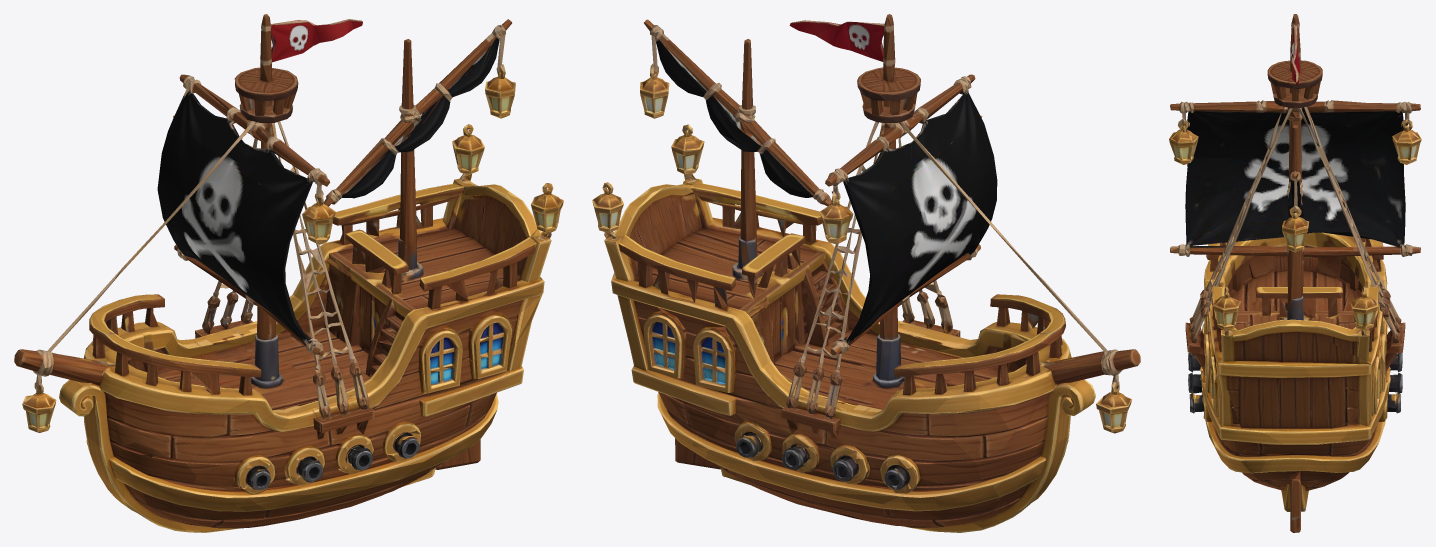
Rendered from Pirate_Ship_Black.glb.
The picture shows the model from 3 angles, left to right: view 1: azimuth 30°, elevation 25°; view 2: azimuth 150°, elevation 25°; view 3: azimuth 270°, elevation 25°; orthographic projection. The views are drawn at different scales.
Size of the model in its own units: 1.9 by 1.8 by 0.9534.
1 material, 1 textured.
